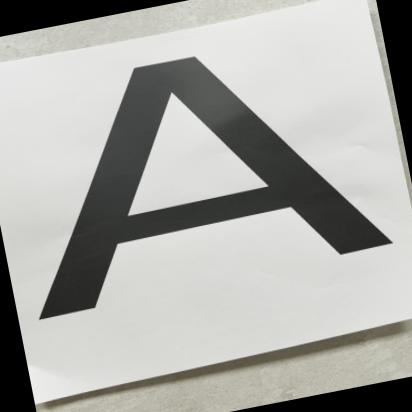seat: (5, 10, 412, 372)
